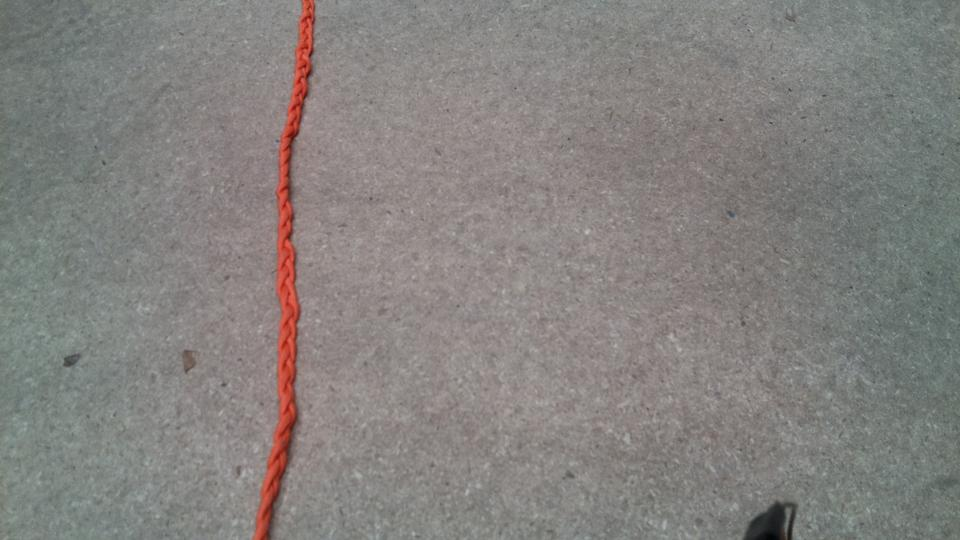rope: (247, 1, 320, 540)
